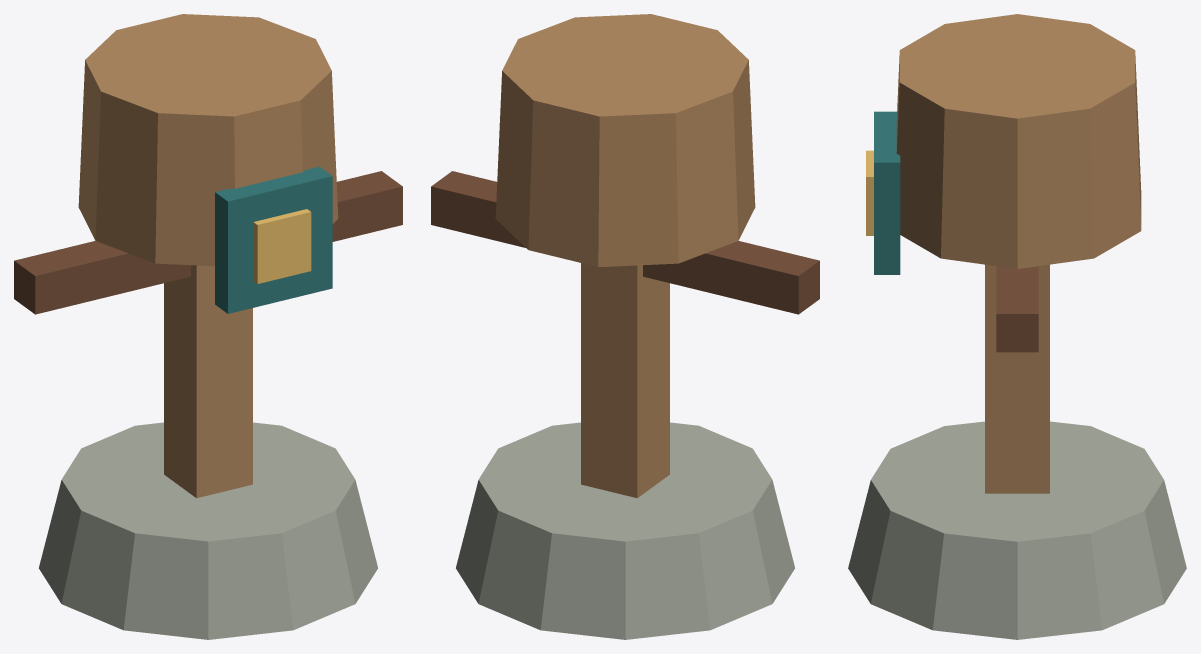
The model's file is training_dummy.glb.
The picture shows the model from 3 angles, left to right: view 1: azimuth 30°, elevation 25°; view 2: azimuth 150°, elevation 25°; view 3: azimuth 270°, elevation 25°; orthographic projection.
Parts seen in each view (by area): view 1: training_dummy; view 2: training_dummy; view 3: training_dummy.
Boxes of the visible parts, left/top/right/bottom form: training_dummy: left=14, top=14, right=402, bottom=639; training_dummy: left=431, top=14, right=819, bottom=639; training_dummy: left=848, top=14, right=1186, bottom=639.
Bounding box in the file's own units: 1.3 × 1.7 × 1.04.
